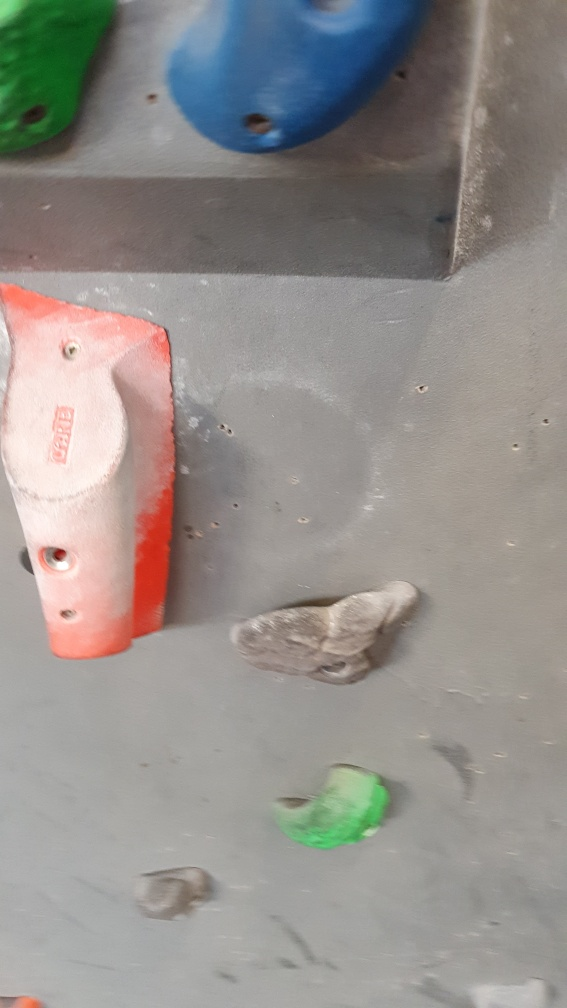Jug: (229, 569, 423, 688), (268, 754, 398, 854)
Pinch: (1, 278, 178, 668)
